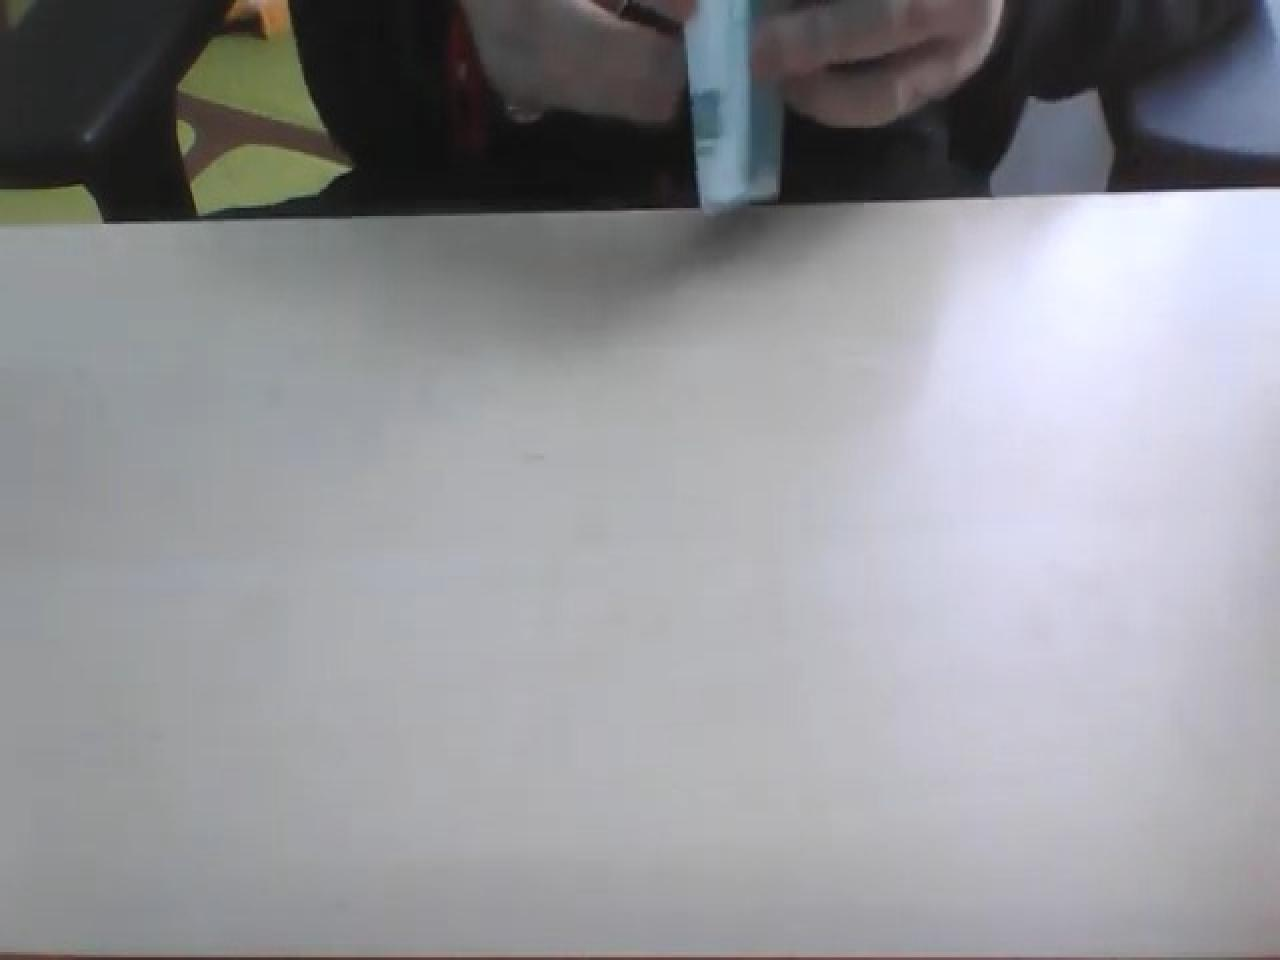100leva: (682, 0, 788, 213)
